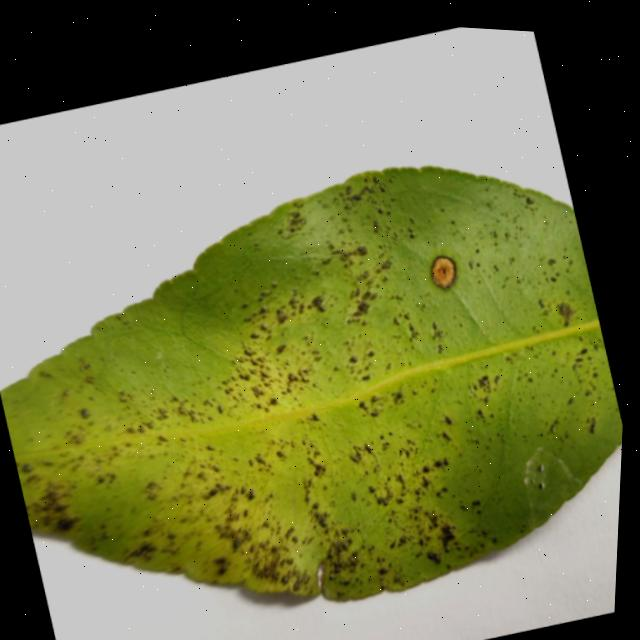melanose: (1, 167, 623, 601)
